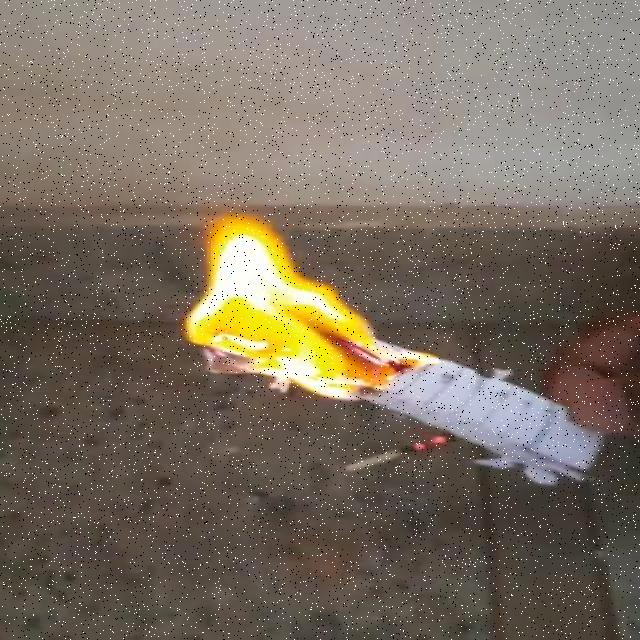fire: (179, 213, 401, 390)
